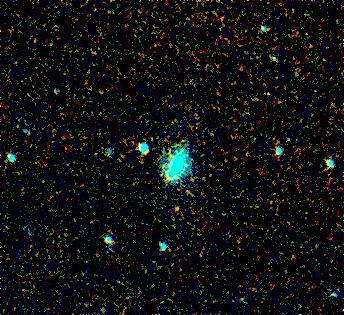star: (163, 195, 193, 225)
